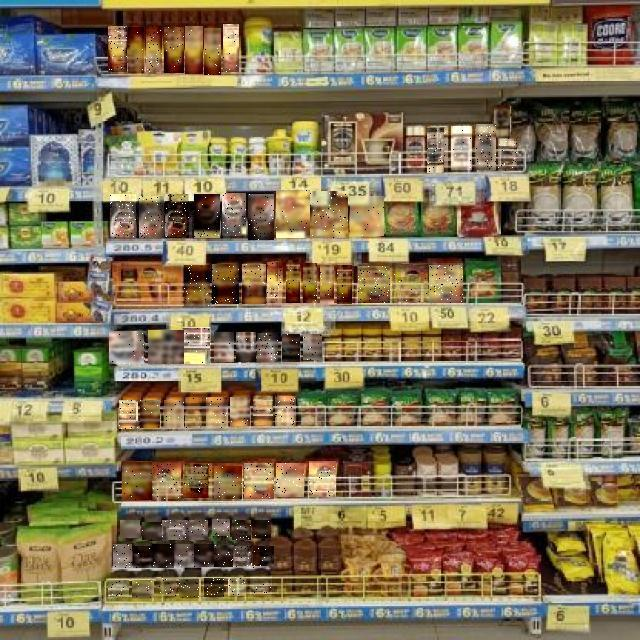Coffee: (310, 191, 348, 238), (276, 191, 310, 239), (351, 196, 385, 236), (394, 264, 428, 302), (429, 265, 463, 303), (148, 330, 184, 364), (110, 332, 146, 366), (249, 194, 275, 240), (358, 266, 390, 303), (166, 194, 192, 238), (194, 194, 220, 238), (110, 194, 136, 238), (122, 462, 152, 500), (184, 327, 214, 364), (212, 265, 239, 305), (244, 463, 274, 499), (184, 265, 210, 306), (222, 194, 246, 238), (139, 196, 164, 238), (309, 461, 336, 497), (242, 264, 266, 304), (276, 463, 304, 497), (184, 465, 212, 499), (153, 463, 179, 499), (451, 127, 472, 171), (215, 466, 243, 499), (164, 27, 184, 73), (476, 125, 496, 171), (428, 127, 448, 173), (108, 26, 127, 72), (185, 26, 203, 74), (204, 28, 221, 75), (223, 25, 239, 73), (147, 26, 163, 72), (128, 27, 144, 73), (207, 397, 229, 428), (258, 333, 280, 362), (275, 397, 296, 427), (498, 138, 517, 171), (186, 397, 206, 428), (286, 260, 300, 303), (337, 264, 352, 304), (214, 332, 234, 362), (236, 332, 256, 362), (253, 396, 273, 426), (230, 397, 250, 426), (268, 262, 282, 303), (303, 263, 317, 303), (164, 400, 184, 428), (140, 400, 160, 428), (119, 400, 138, 429), (320, 266, 334, 304), (152, 544, 174, 568), (495, 105, 511, 138), (282, 335, 300, 363), (303, 335, 322, 361), (172, 545, 194, 567), (234, 546, 256, 568), (162, 520, 186, 540), (194, 544, 214, 567), (113, 544, 132, 568), (187, 520, 209, 540), (214, 545, 234, 567), (133, 547, 153, 569), (250, 576, 272, 596), (132, 580, 154, 598), (232, 520, 251, 540), (255, 546, 274, 566), (204, 578, 224, 597), (179, 579, 199, 598), (120, 520, 140, 538), (143, 522, 163, 540), (156, 579, 176, 597), (252, 520, 271, 538), (108, 581, 129, 597), (212, 520, 230, 538), (228, 578, 246, 596)
